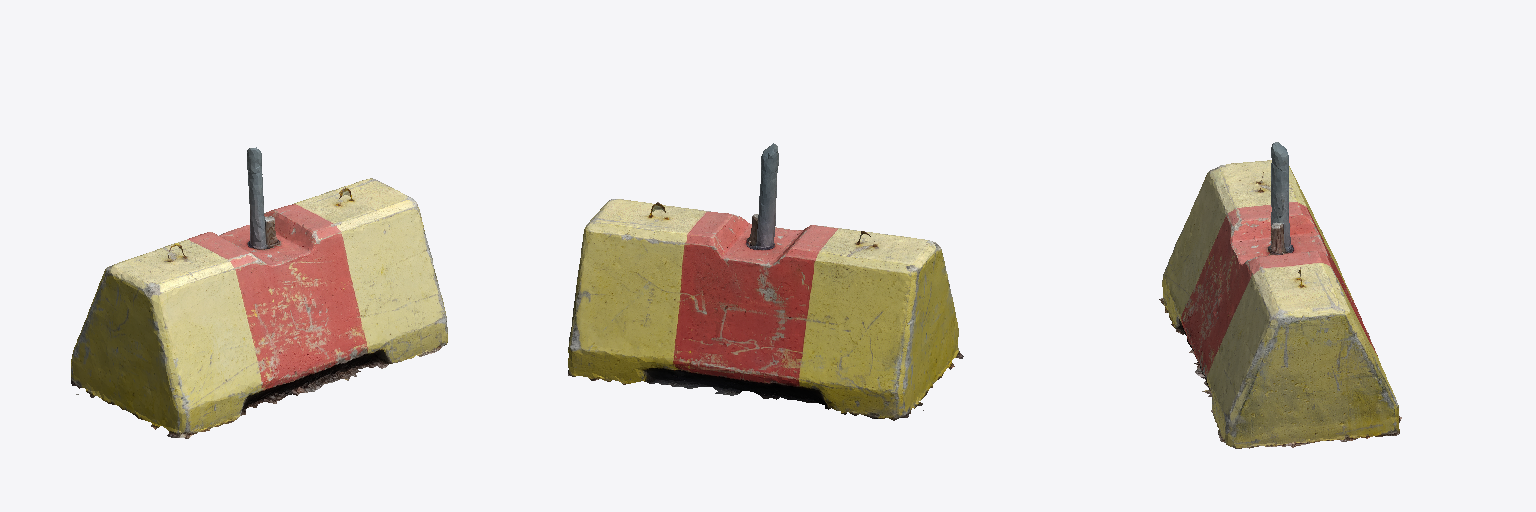
3 renders of one model, left to right at view 1: azimuth 30°, elevation 25°; view 2: azimuth 150°, elevation 25°; view 3: azimuth 270°, elevation 25°, orthographic.
Parts seen in each view (by area): view 1: Group_Global; view 2: Group_Global; view 3: Group_Global.
Part boxes in pixels (x1,y1,x2,y2): Group_Global: (71, 147, 447, 438); Group_Global: (568, 143, 963, 420); Group_Global: (1159, 142, 1401, 448).
Bounding box in the file's own units: 1000 × 631 × 628.
1 materials, 1 textured.